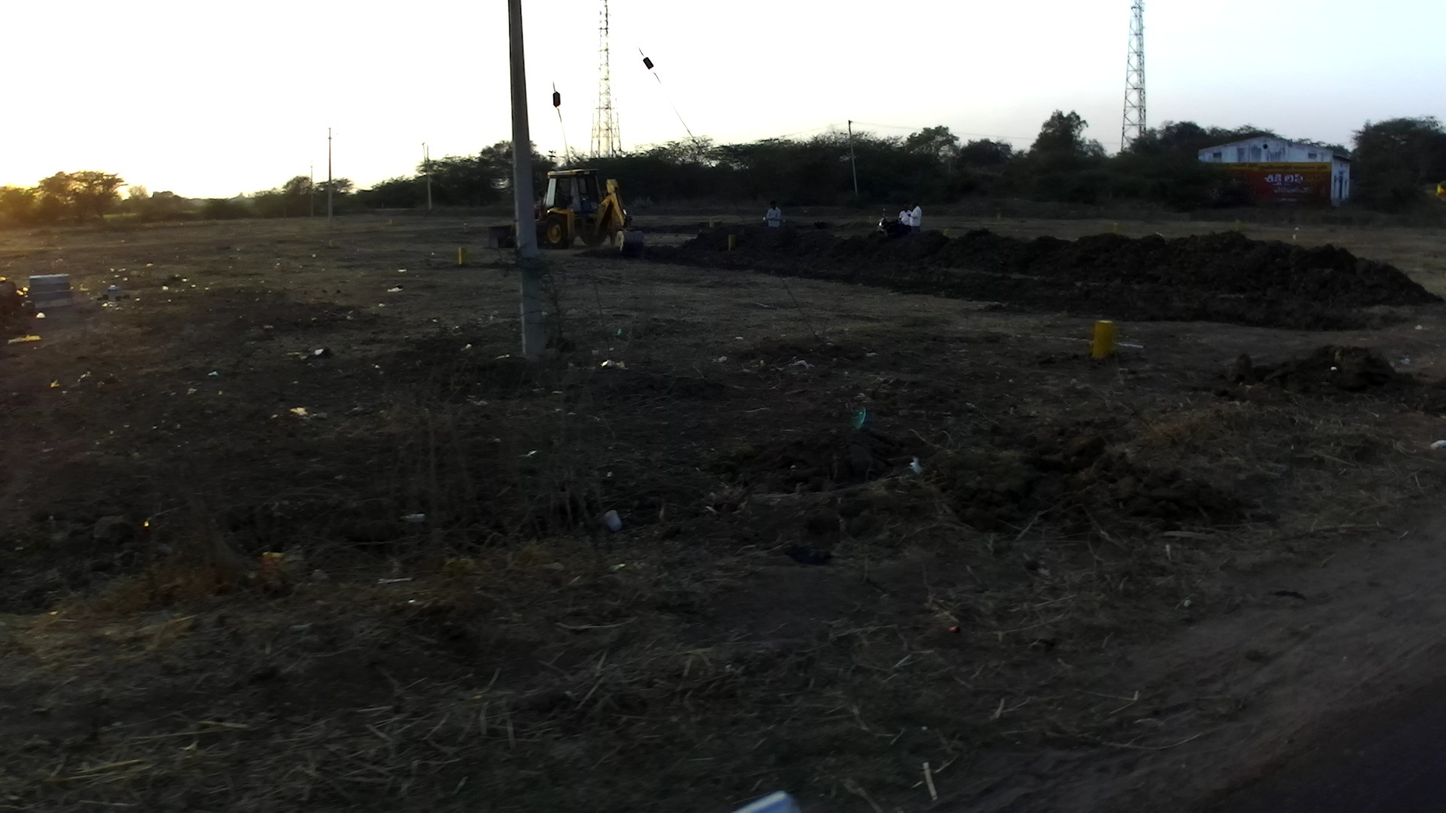motorcycle: (877, 208, 916, 233)
person: (766, 199, 782, 229), (908, 201, 923, 232), (899, 203, 913, 225)
vehicle fallback: (488, 169, 646, 255)
